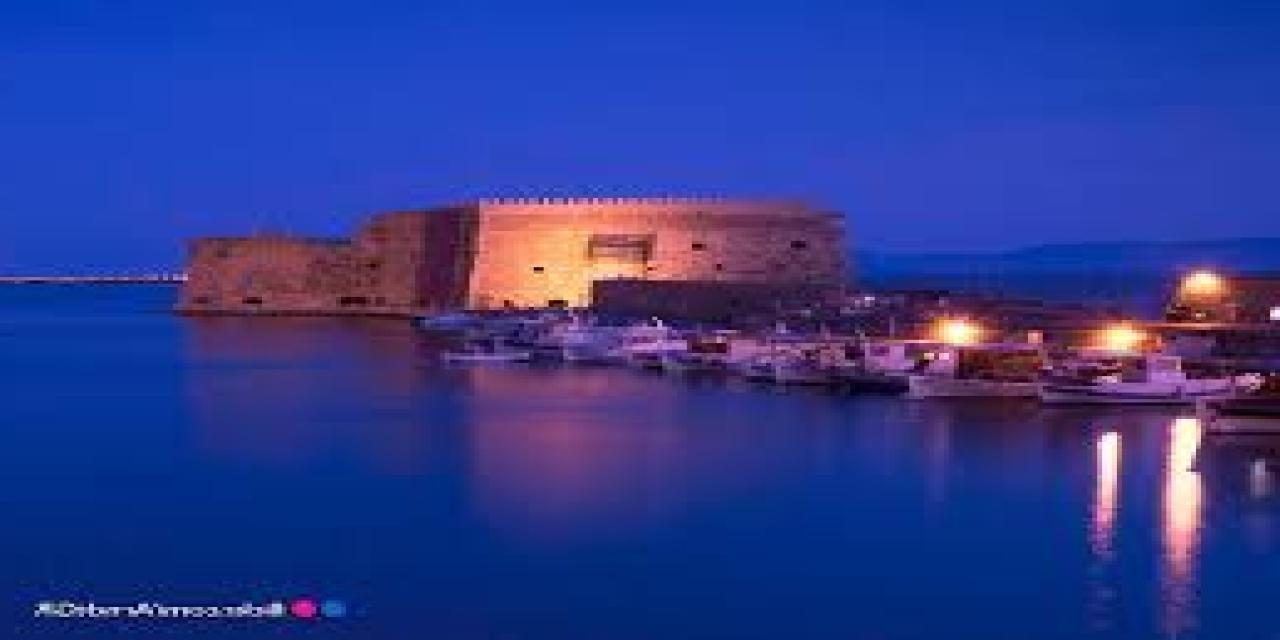Kules: (175, 196, 845, 322)
